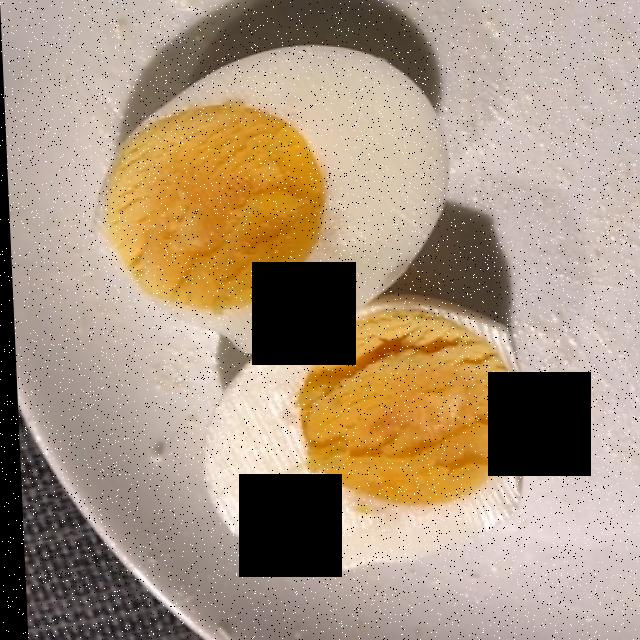egg: (79, 13, 533, 576)
